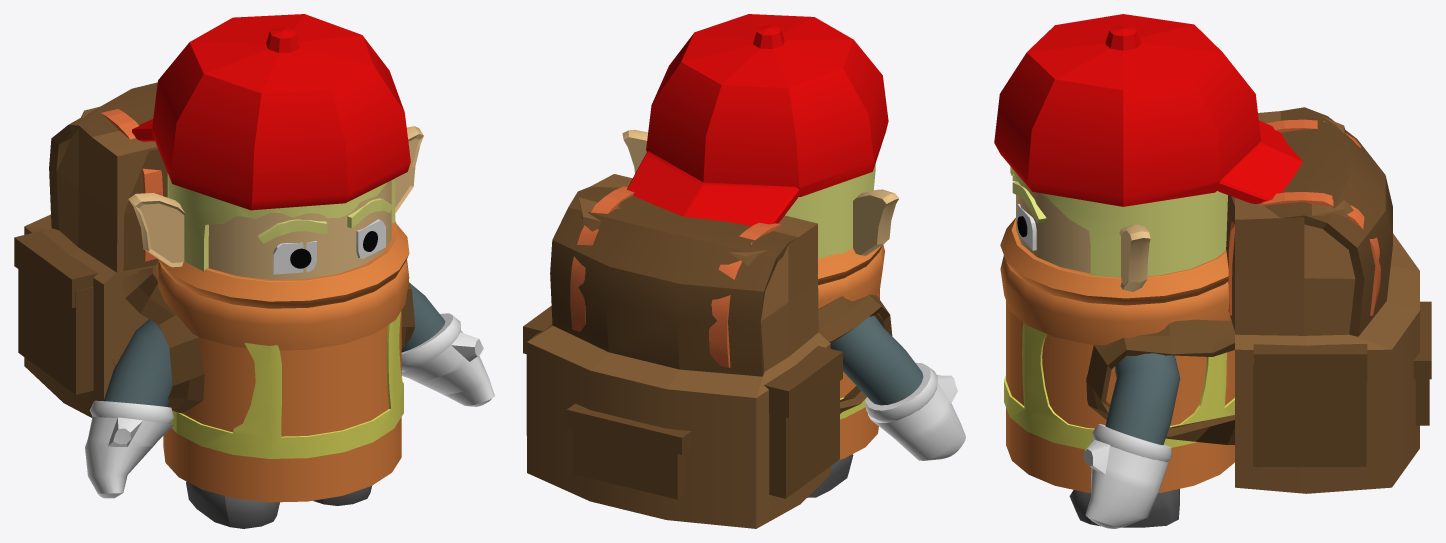
Rendered from Nylo A pose.fbx.
The picture shows the model from 3 angles, left to right: view 1: azimuth 30°, elevation 25°; view 2: azimuth 150°, elevation 25°; view 3: azimuth 270°, elevation 25°; orthographic projection. The views are drawn at different scales.
Visible parts, largest first — view 1: Cp, pCylinder1, pCylinder3, pCube1, pCylinder12, pCylinder2, pCube9, pCylinder9, pCube10, pCylinder7, pCube14, pCylinder5 (+12 smaller); view 2: Cp, pCube1, pCube10, pCube9, pCylinder9, pCube5, pCylinder8, pCylinder5, pCube8, pCylinder3, pCube4, pCube14 (+7 smaller); view 3: Cp, pCube1, pCylinder3, pCylinder1, pCube10, pCube7, pCylinder5, pCylinder7, pCube13, pCylinder12, pCylinder6, pCube6 (+7 smaller).
Part boxes in pixels (x1,y1,x2,y2): Cp: (132,14,410,210); pCylinder1: (163,311,401,502); pCylinder3: (156,221,409,350); pCube1: (24,106,157,417); pCylinder12: (170,311,403,458); pCylinder2: (208,180,391,279); pCube9: (18,269,93,394); pCylinder9: (85,400,173,498); pCube10: (49,82,167,270); pCylinder7: (401,313,494,406); pCube14: (111,267,204,413); pCylinder5: (167,173,397,271); Cp: (627,14,888,226); pCube1: (527,174,830,528); pCube10: (550,186,797,376); pCube9: (769,381,839,498); pCylinder9: (865,362,965,460); pCube5: (573,428,684,499); pCylinder8: (830,315,923,405); pCylinder5: (785,164,875,258); pCube8: (764,346,842,417); pCylinder3: (818,245,884,309); pCube4: (566,403,691,454); pCube14: (818,294,892,413); Cp: (994,14,1302,206); pCube1: (1235,111,1419,493); pCylinder3: (1000,218,1231,345); pCylinder1: (1006,301,1234,492); pCube10: (1226,107,1392,336); pCube7: (1253,359,1366,466); pCylinder5: (1010,166,1227,277); pCylinder7: (1083,424,1171,528); pCube13: (1086,319,1234,444); pCylinder12: (1004,322,1234,449); pCylinder6: (1105,353,1180,444); pCube6: (1253,343,1367,382).
Bounding box in the file's own units: 4.43 × 5.05 × 4.33.
